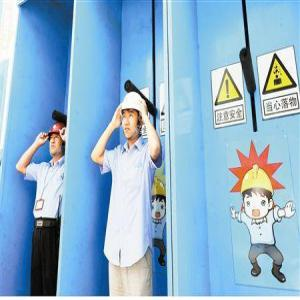red: (49, 121, 67, 159)
white: (120, 92, 146, 143)
